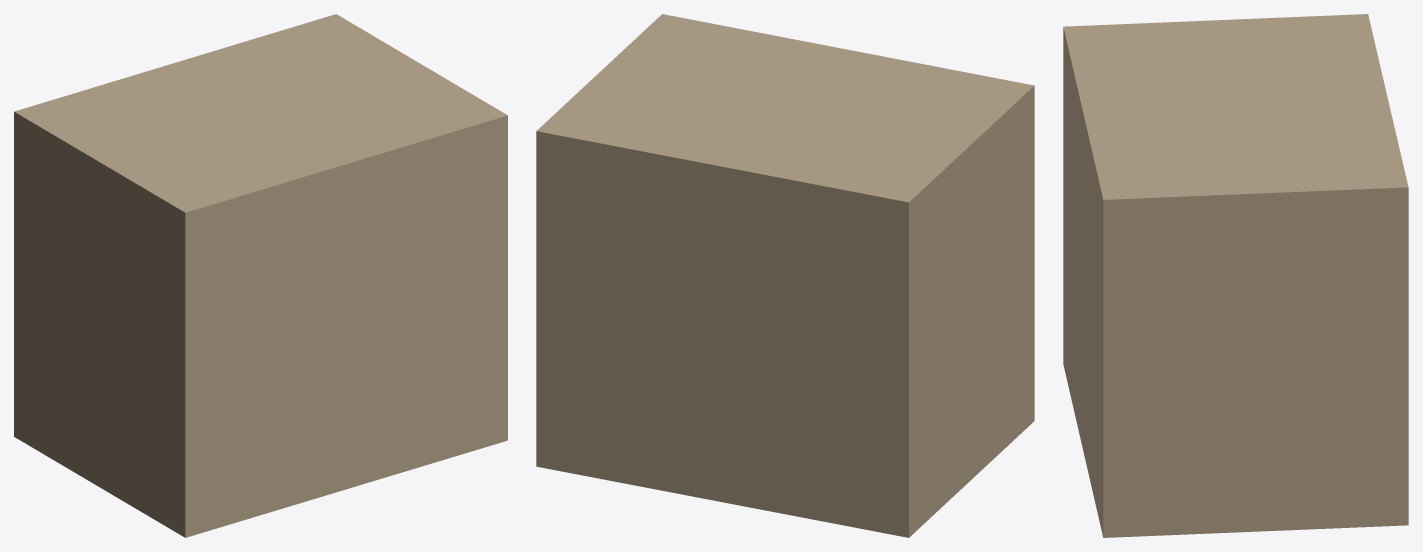
File: bld_101791723.dae
3 views of the same model, side by side, from view 1: azimuth 30°, elevation 25°; view 2: azimuth 150°, elevation 25°; view 3: azimuth 270°, elevation 25° (orthographic). The views are drawn at different scales.
Visible parts, largest first — view 1: bld_101791723; view 2: bld_101791723; view 3: bld_101791723.
Boxes of the visible parts, box(x1,y1,x2,y2) form: bld_101791723: box(14, 14, 507, 537); bld_101791723: box(536, 14, 1034, 537); bld_101791723: box(1063, 14, 1408, 537).
Bounding box in the file's own units: 9.44 × 7.4 × 8.
